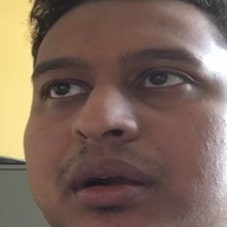awake: (25, 52, 212, 215)
